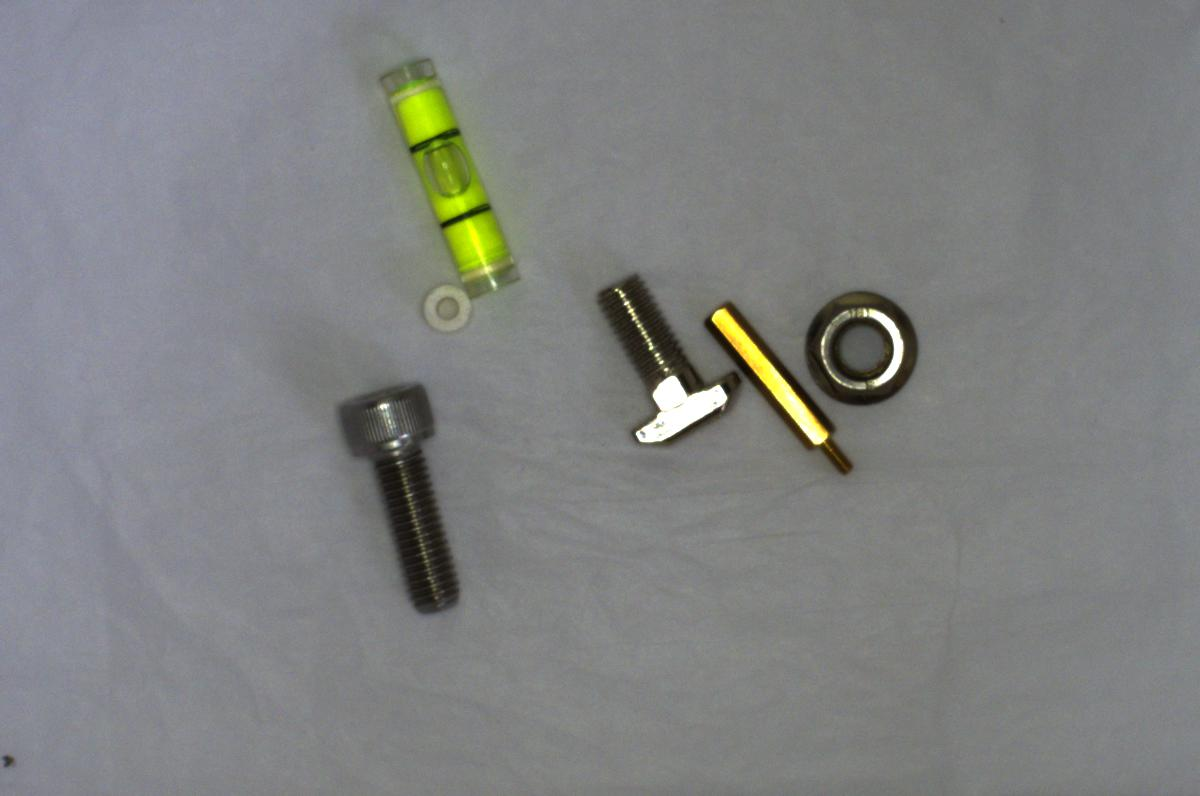Flange nut: (798, 283, 922, 407)
Hexagon pillar: (706, 296, 857, 482)
Hexagon screw: (332, 376, 474, 624)
Horizontal bubble: (384, 49, 521, 300)
Plastic cushion pillar: (418, 278, 479, 338)
T-shaped screw: (584, 266, 743, 452)
